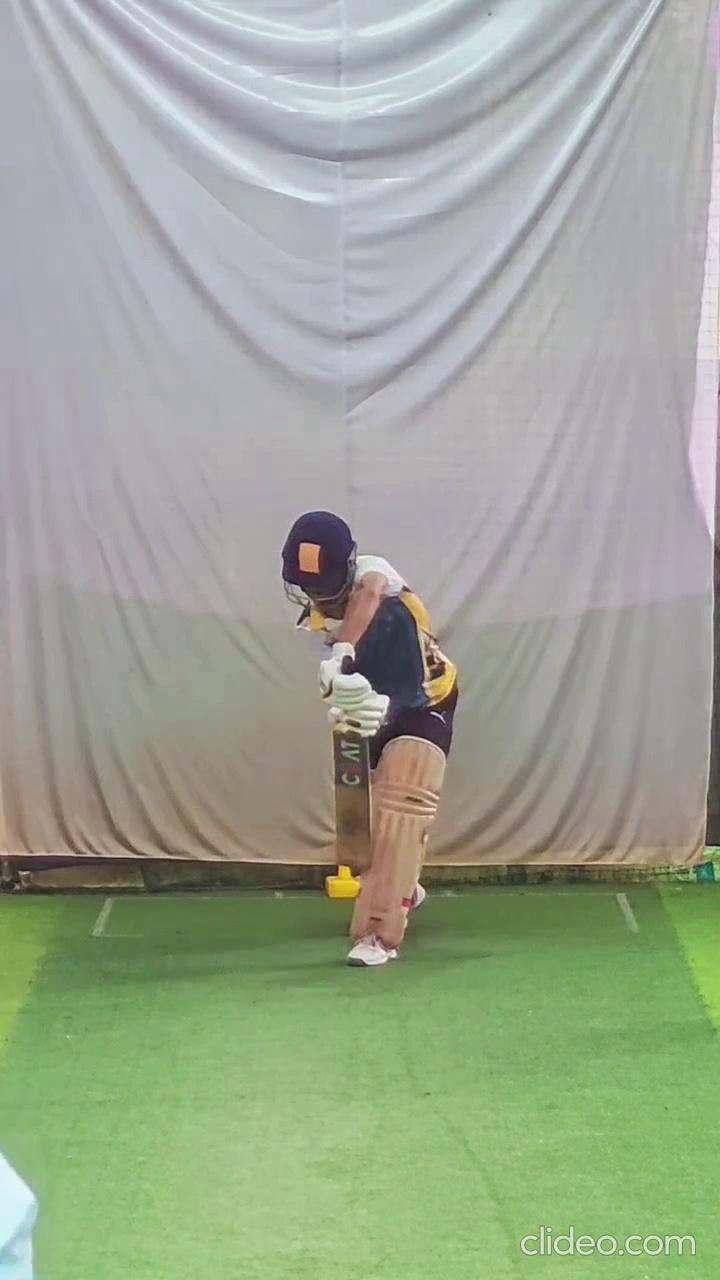bat: (332, 729, 373, 871)
